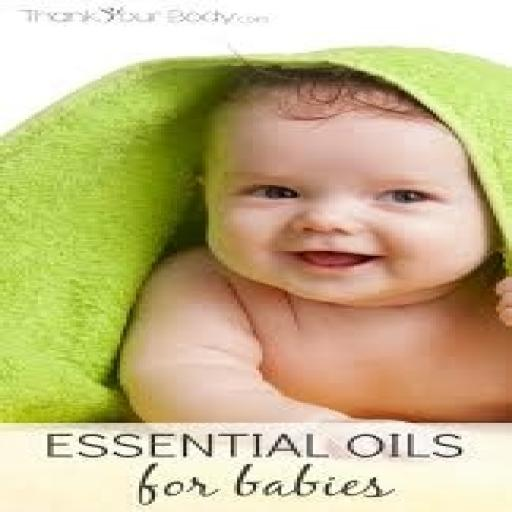laughing: (107, 55, 509, 421)
